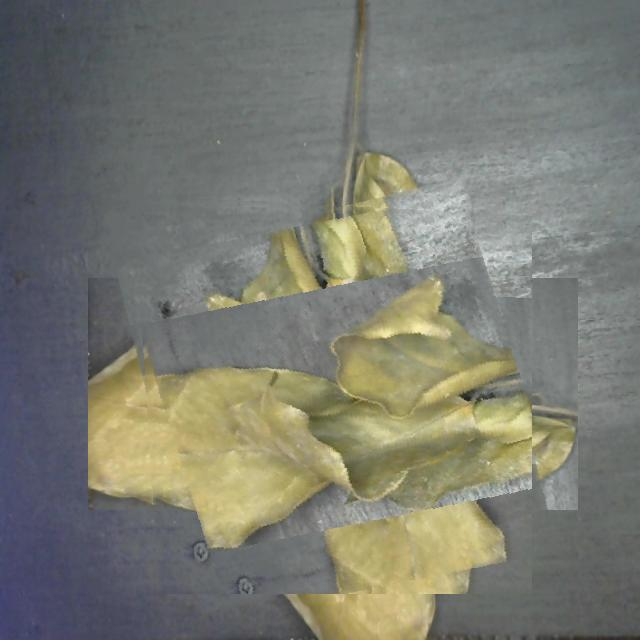biodegradable: (133, 195, 532, 594)
